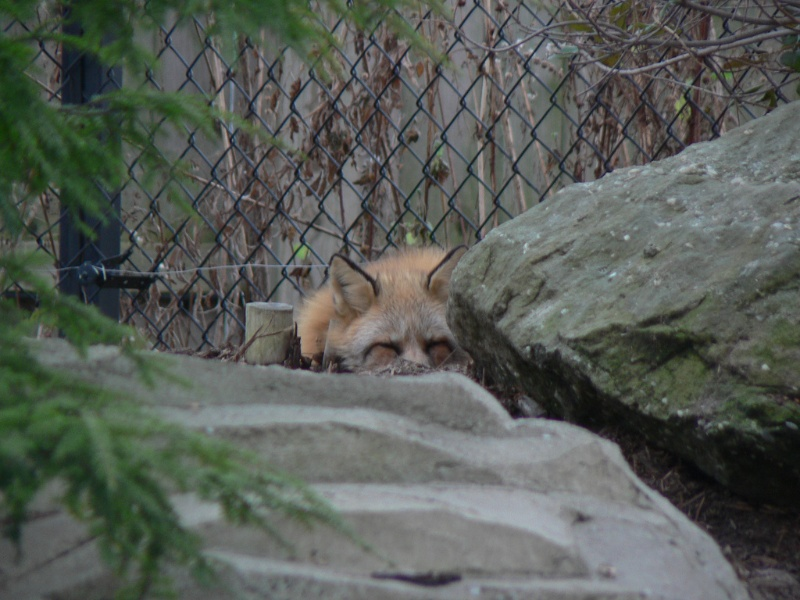fox: (292, 244, 474, 383)
